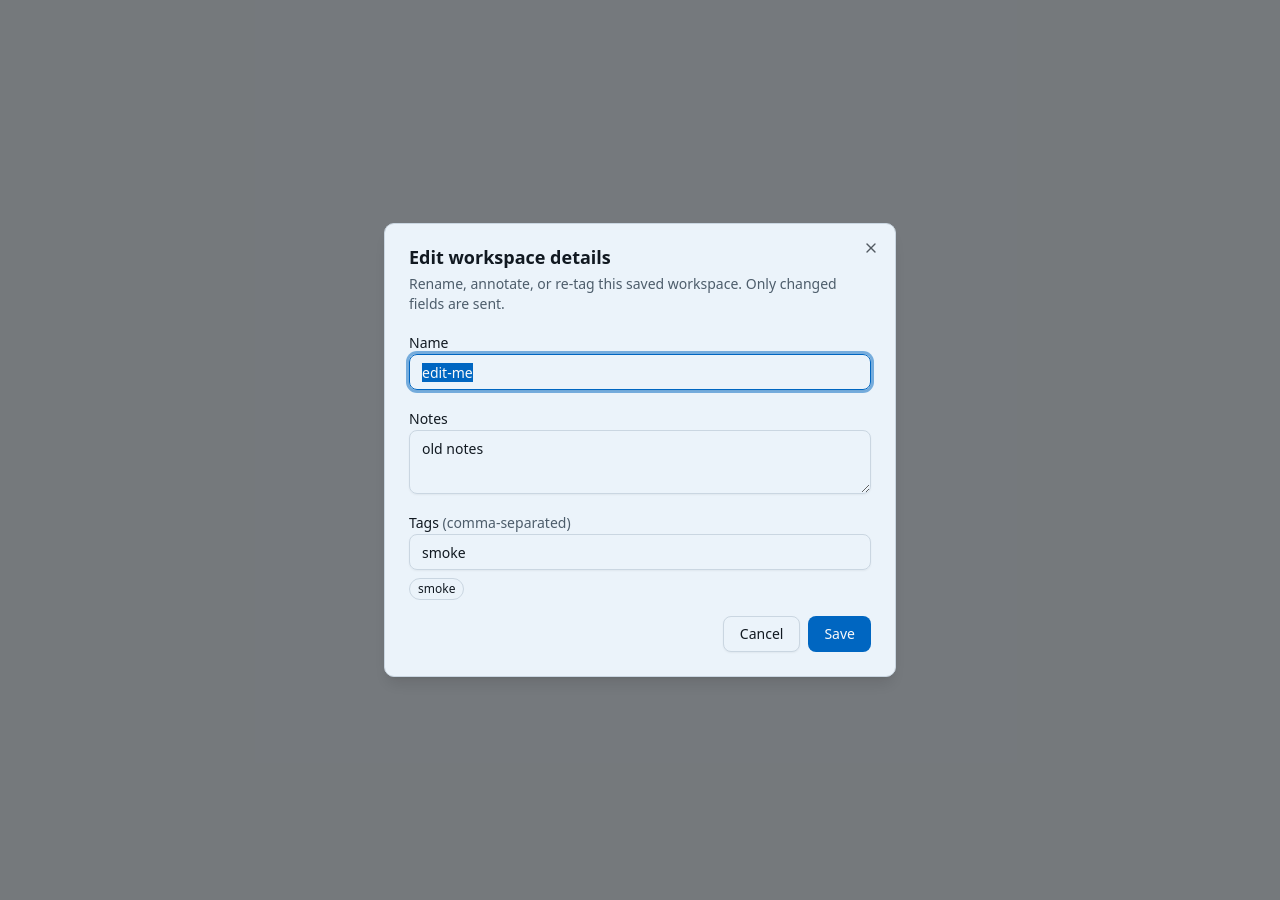
Scenario: WorkspaceEditDialog › disables Save with an inline hint on a pattern violation
The width and height of the screenshot is (1280, 900).
Replace the text in the field labelled "Name" with "Bad Name!": (640, 372) [409,354,871,390]
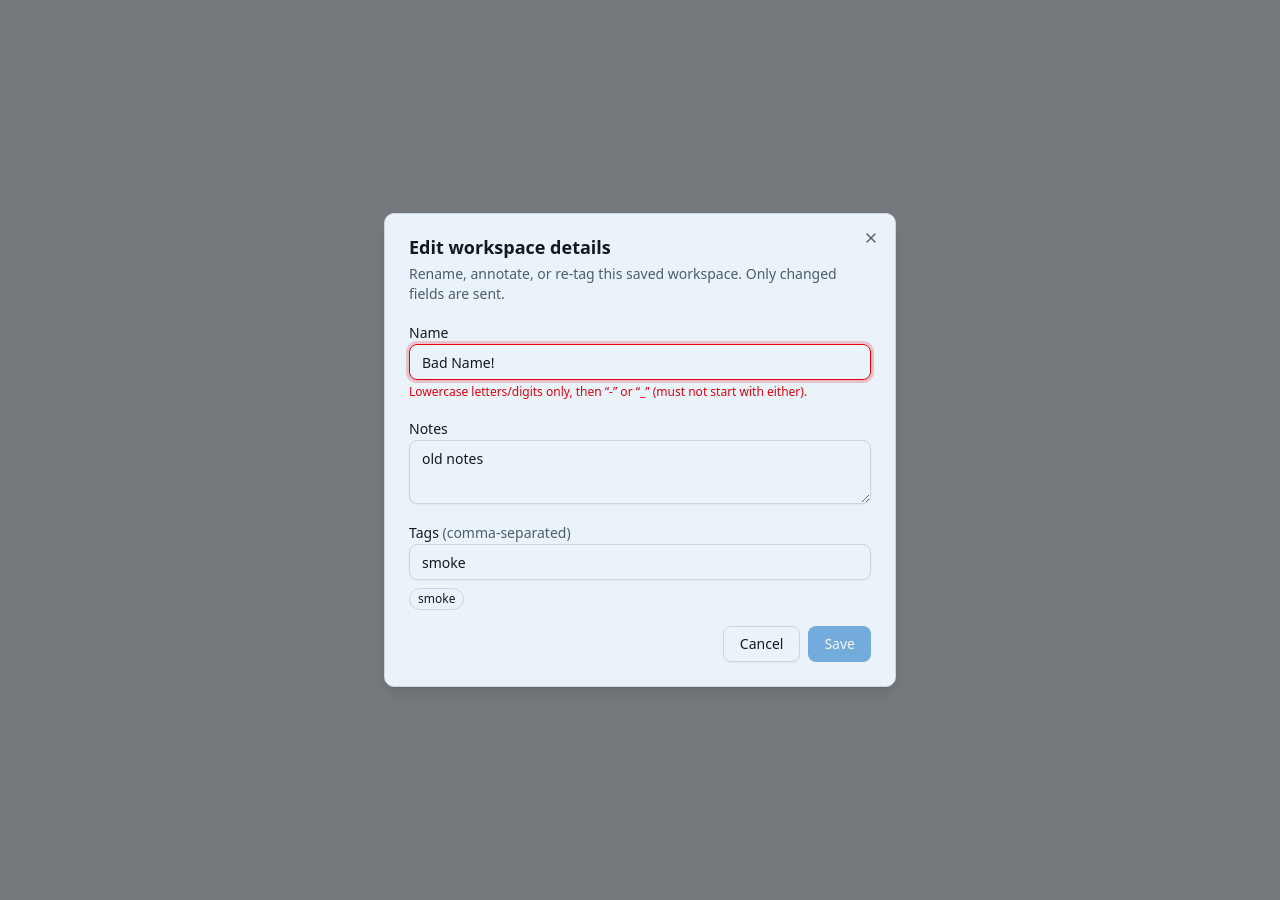
expect the text "Lowercase letters/digits only" is shown: met, box [409,383,807,400]
expect the button with test id "workspace-edit-save" is disabled: met, box [808,626,871,662]
